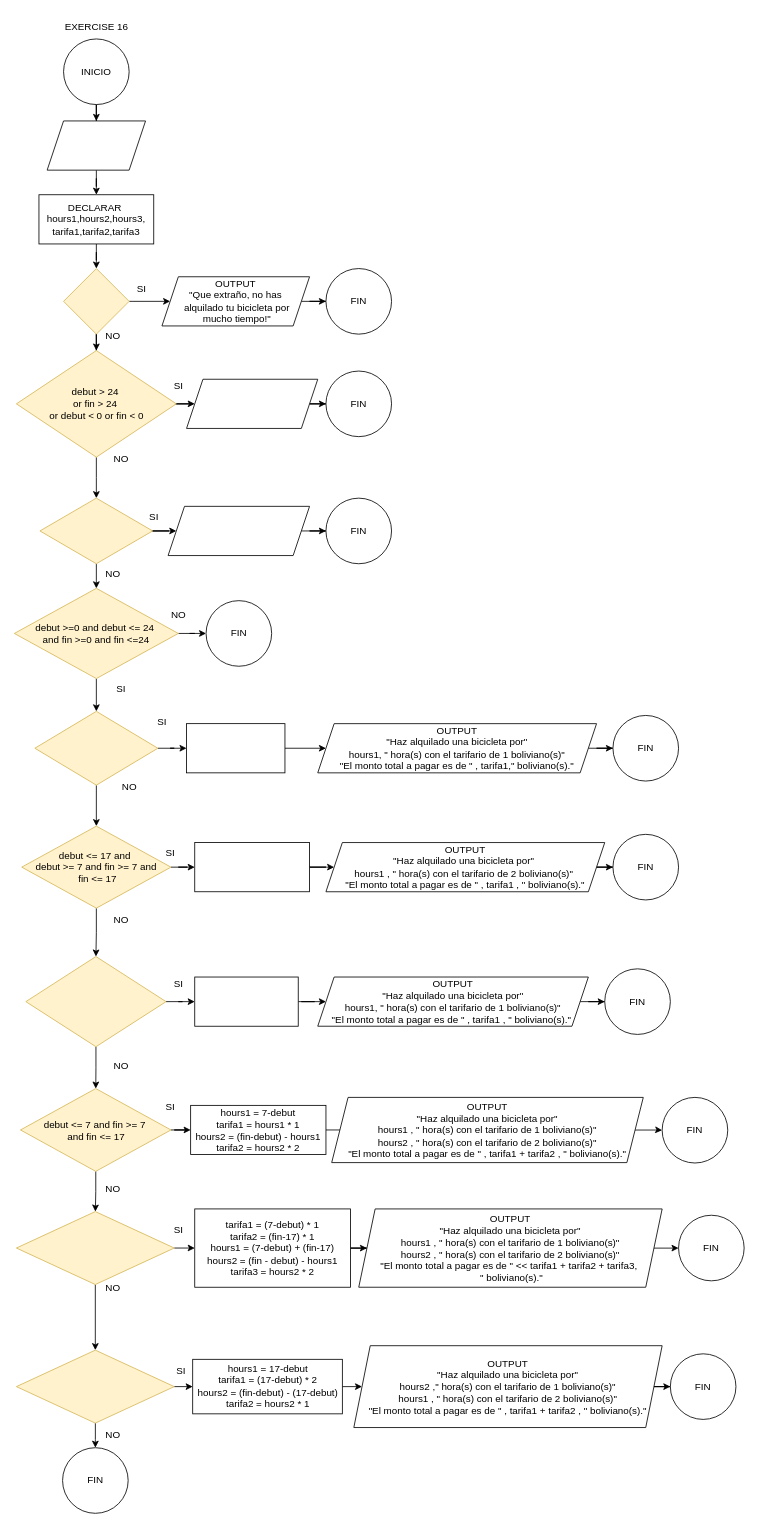
Image size: 759x1528. Some labels were removed from this diagram. The shapes that lost their labels are listed below. From the top down, each one's centre as x and y in pixels, then its label:
point 96,145: INPUT debut, fin
point 96,301: debut==fin
point 252,403: OUTPUT "Las horas deben estar entre 0 y 24!"
point 96,530: debut > fin
point 238,531: OUTPUT "Que extraño, el inicio del alquiler es después del final..."
point 96,748: debut <= 7 and fin <= 7
point 235,748: hours1 = fin-debut tarifa1 = hours1 *1
point 252,867: hours1 = fin - debut tarifa1 = hours1 * 2
point 95,1001: debut <= 24 and debut >= 17 and fin >= 17 and fin <= 24
point 246,1001: hours1 = fin - debut tarifa1 = hours1 * 1
point 95,1248: debut <= 7 and fin >= 17 and fin <= 24
point 95,1386: debut <= 17 and debut >= 7 and fin >= 17 and fin <= 24
